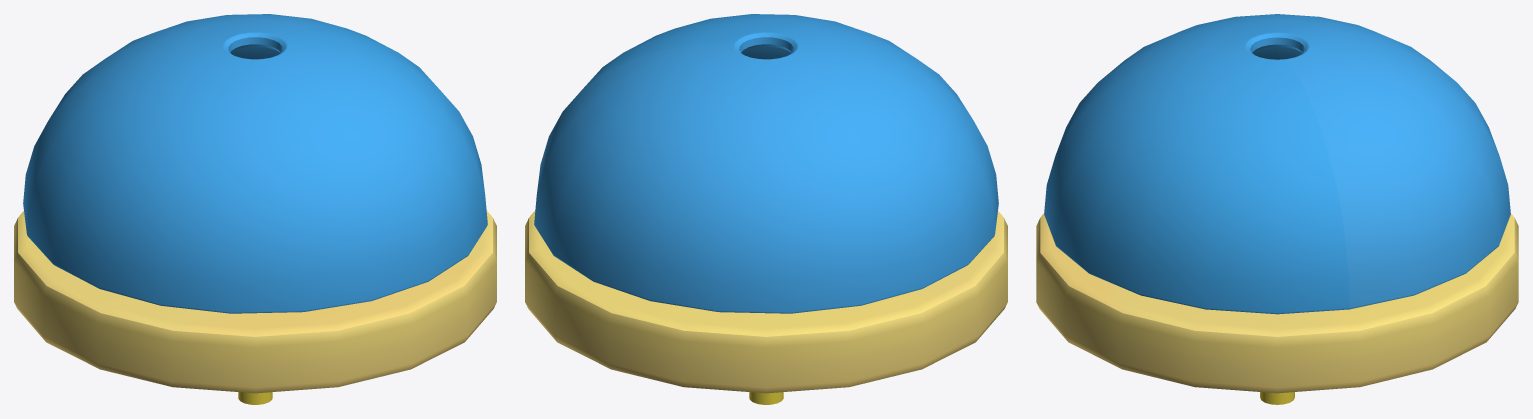
File: RING.fbx
The picture shows the model from 3 angles, left to right: view 1: azimuth 30°, elevation 25°; view 2: azimuth 150°, elevation 25°; view 3: azimuth 270°, elevation 25°; orthographic projection.
Parts seen in each view (by area): view 1: pSphere1, pCylinder1; view 2: pSphere1, pCylinder1; view 3: pSphere1, pCylinder1.
Boxes of the visible parts, x1,y1,x2,y2 form: pSphere1: [23, 14, 487, 313]; pCylinder1: [14, 210, 496, 393]; pSphere1: [534, 14, 998, 313]; pCylinder1: [525, 210, 1007, 393]; pSphere1: [1044, 14, 1510, 314]; pCylinder1: [1036, 214, 1518, 393].
Size of the model in its own units: 0.4294 by 0.3399 by 0.4229.
